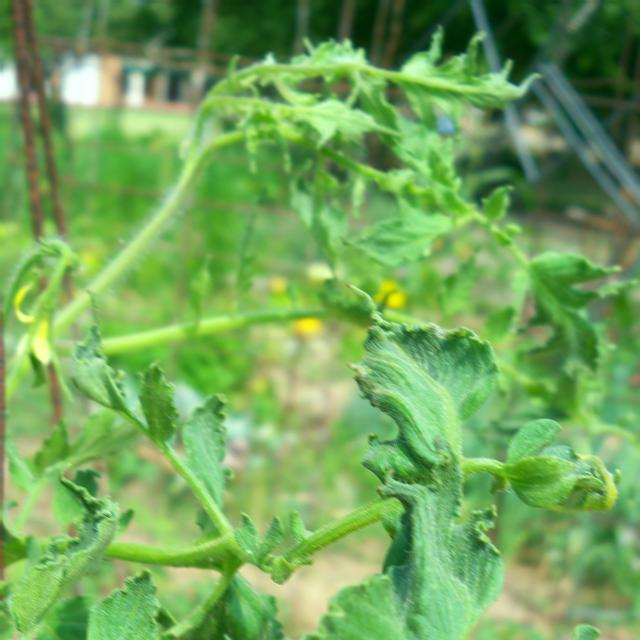Tomato leaf mosaic virus: (346, 282, 506, 640), (160, 573, 467, 640), (182, 380, 234, 513), (80, 567, 166, 640)
